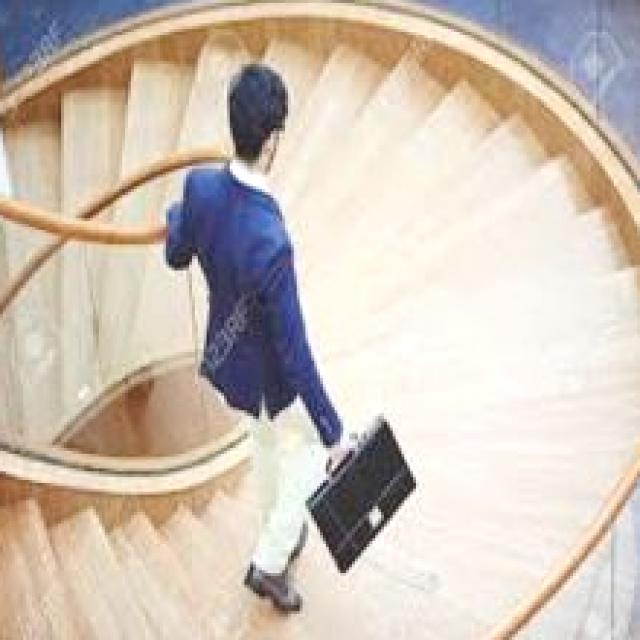downstair: (318, 222, 618, 443)
